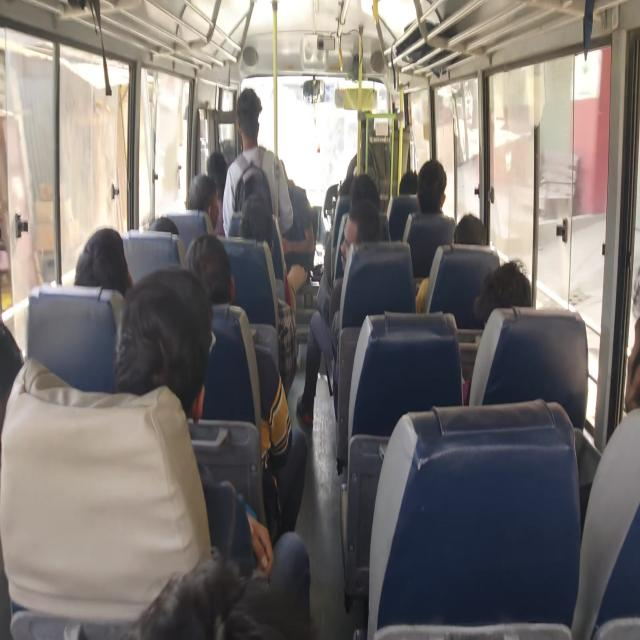person: (114, 266, 275, 578), (184, 233, 308, 538), (570, 266, 640, 638), (122, 508, 311, 639), (296, 198, 382, 424), (114, 266, 215, 423), (239, 192, 298, 390), (222, 86, 294, 240), (462, 258, 532, 404), (415, 212, 487, 313), (401, 158, 456, 282), (280, 174, 316, 292), (74, 226, 133, 297), (473, 258, 532, 326), (184, 232, 234, 305), (188, 172, 220, 232), (206, 151, 228, 236), (417, 159, 448, 215), (452, 212, 487, 245), (149, 217, 179, 234), (398, 171, 418, 195)
